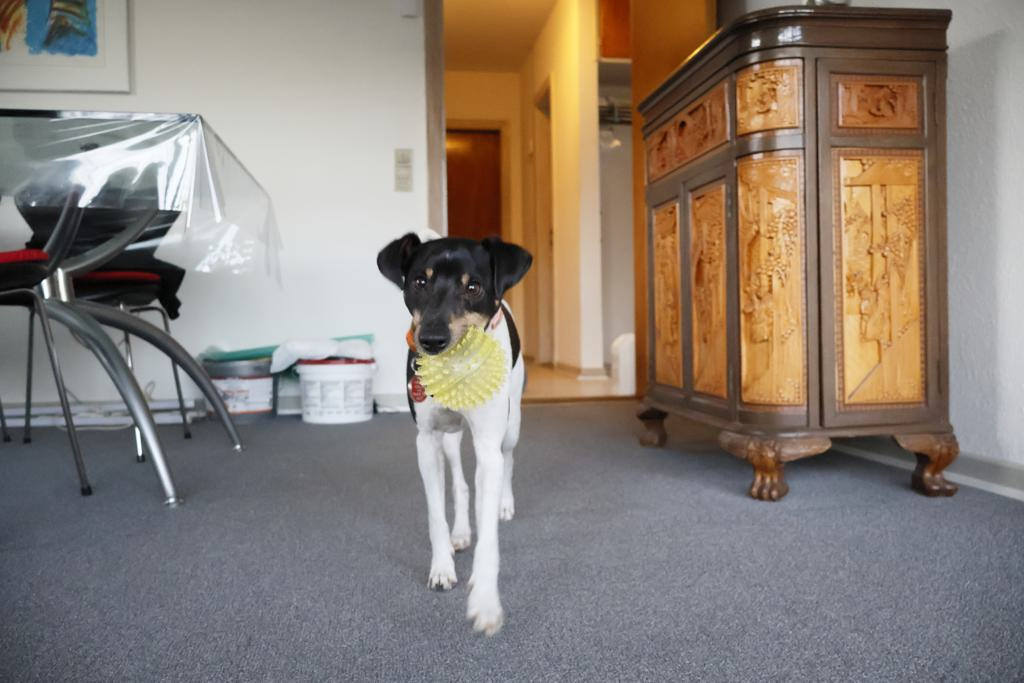Dog: (365, 194, 545, 653)
